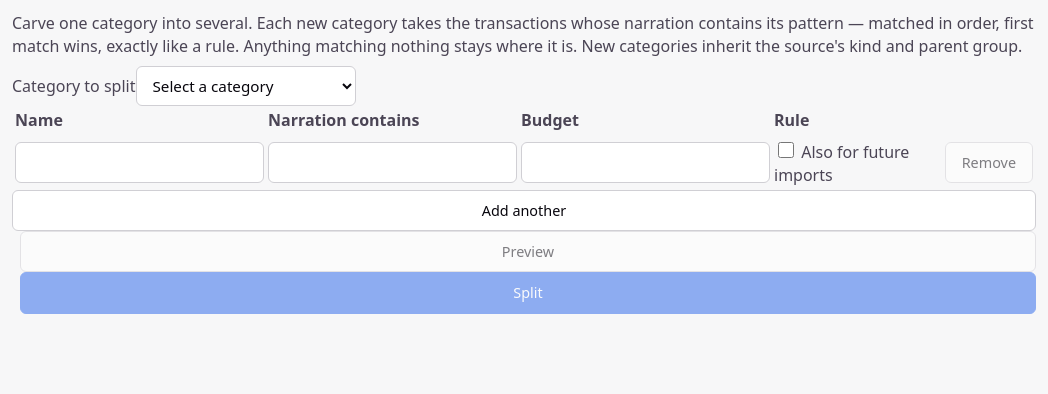
Test: CategorySplitter › surfaces the API refusal
Select "Groceries" in the dropdown labelled "Category to split" at (246, 86), box [136,66,356,106]
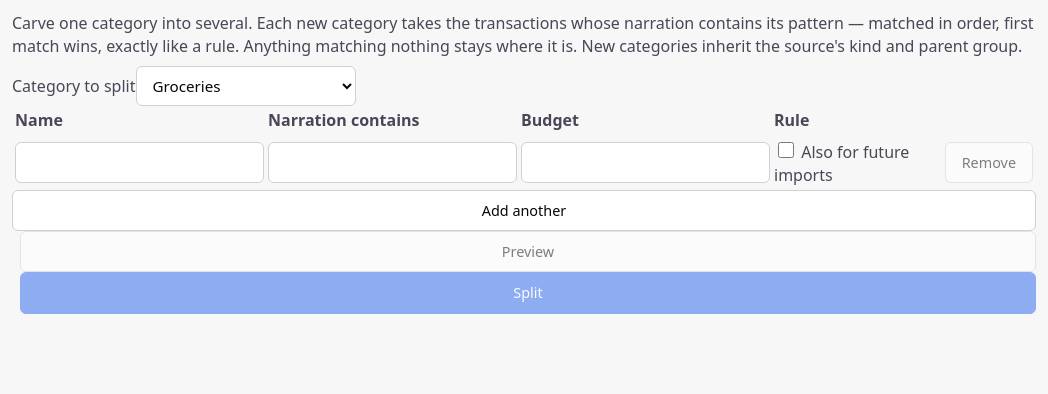
Type "Alcohol" into the field named "Name for new category 1" at (140, 163), box [15,142,264,183]
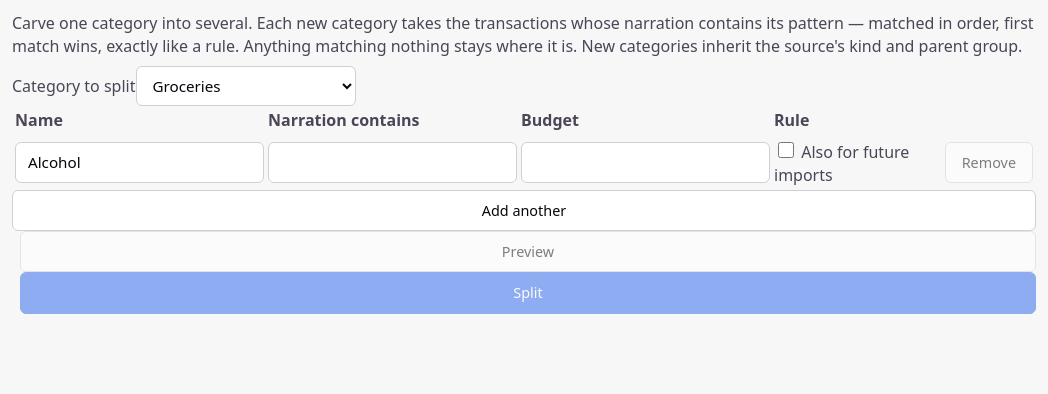
Type "bws" into the field named "Narration pattern for new category 1" at (392, 163), box [268,142,517,183]
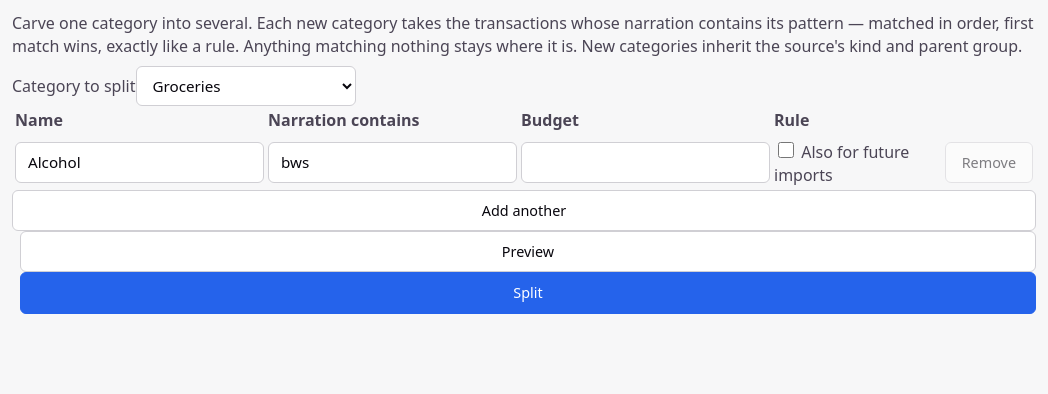
Click the button "Split" at (528, 293), box [20,272,1036,314]
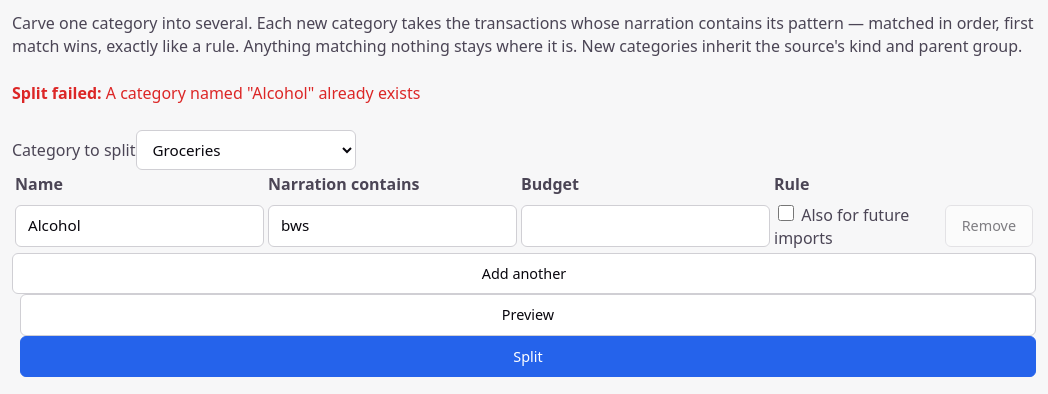
Now the text "A category named \"Alcohol\" already exists" is shown, box [106,82,420,104]
